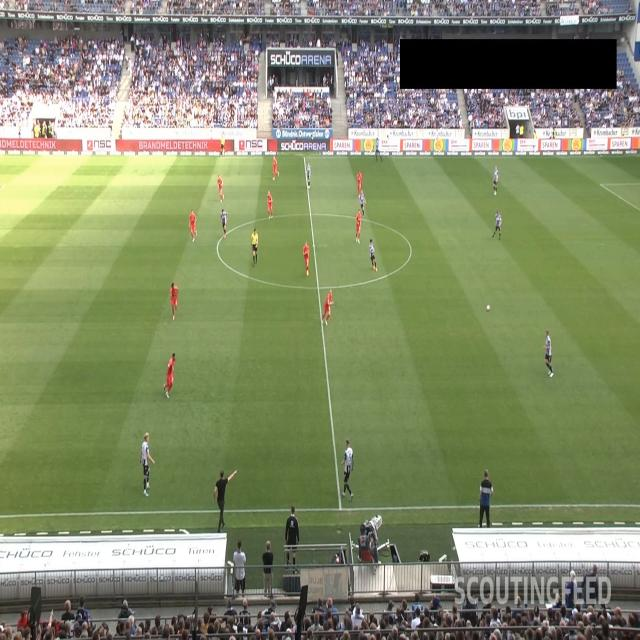ball: (486, 304, 491, 311)
